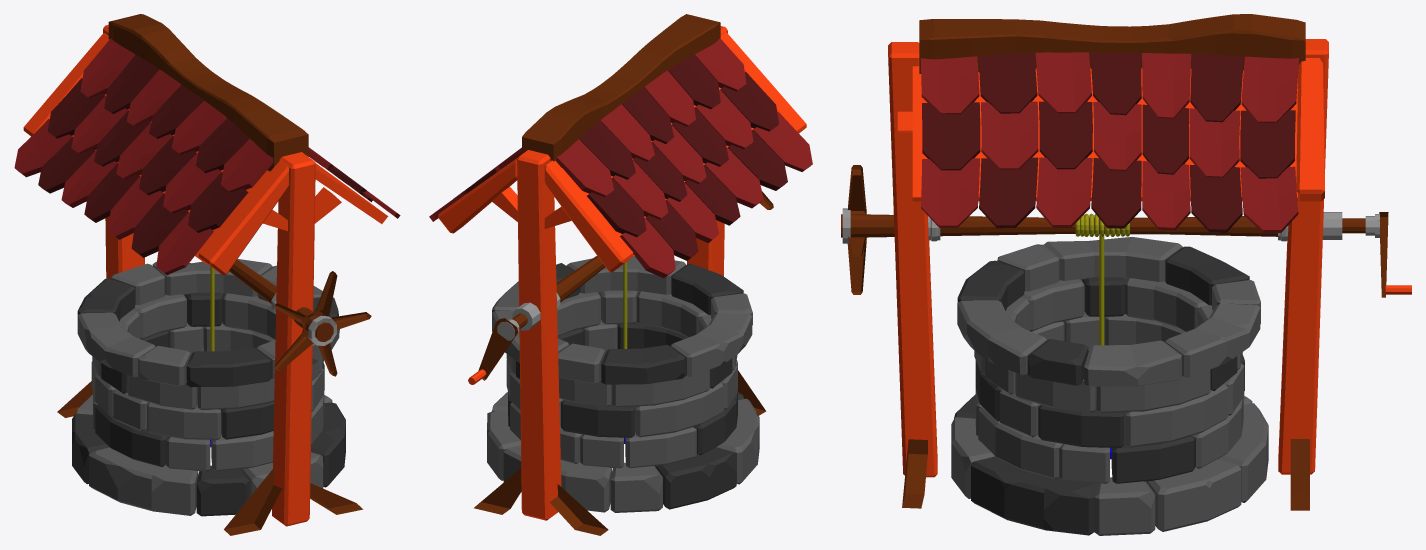
The model's file is Well.fbx.
The picture shows the model from 3 angles, left to right: view 1: azimuth 30°, elevation 25°; view 2: azimuth 150°, elevation 25°; view 3: azimuth 270°, elevation 25°; orthographic projection. The views are drawn at different scales.
Parts seen in each view (by area): view 1: Cube.058-1, Cube.058-0, Cube.058-3, Cube.058-4, Cube.058-2, Cube.058-5, Cube.058-6; view 2: Cube.058-1, Cube.058-0, Cube.058-3, Cube.058-4, Cube.058-2, Cube.058-5, Cube.058-6; view 3: Cube.058-1, Cube.058-3, Cube.058-0, Cube.058-4, Cube.058-5, Cube.058-2, Cube.058-6, Cube.058-7.
Part boxes in pixels (x1,y1,x2,y2): Cube.058-1: [77, 259, 339, 515]; Cube.058-0: [23, 24, 388, 526]; Cube.058-3: [14, 38, 400, 274]; Cube.058-4: [38, 54, 372, 257]; Cube.058-2: [72, 278, 345, 516]; Cube.058-5: [57, 14, 371, 535]; Cube.058-6: [271, 293, 336, 345]; Cube.058-1: [487, 256, 759, 512]; Cube.058-0: [438, 26, 806, 520]; Cube.058-3: [429, 38, 812, 278]; Cube.058-4: [453, 55, 787, 260]; Cube.058-2: [508, 263, 743, 509]; Cube.058-5: [474, 14, 773, 535]; Cube.058-6: [497, 292, 560, 340]; Cube.058-1: [951, 237, 1268, 535]; Cube.058-3: [920, 52, 1299, 232]; Cube.058-0: [888, 39, 1411, 477]; Cube.058-4: [922, 52, 1295, 232]; Cube.058-5: [841, 14, 1388, 510]; Cube.058-2: [954, 246, 1249, 535]; Cube.058-6: [842, 208, 1379, 243]; Cube.058-7: [1075, 213, 1129, 345].
Size of the model in its own units: 7.12 by 11.07 by 12.64.
